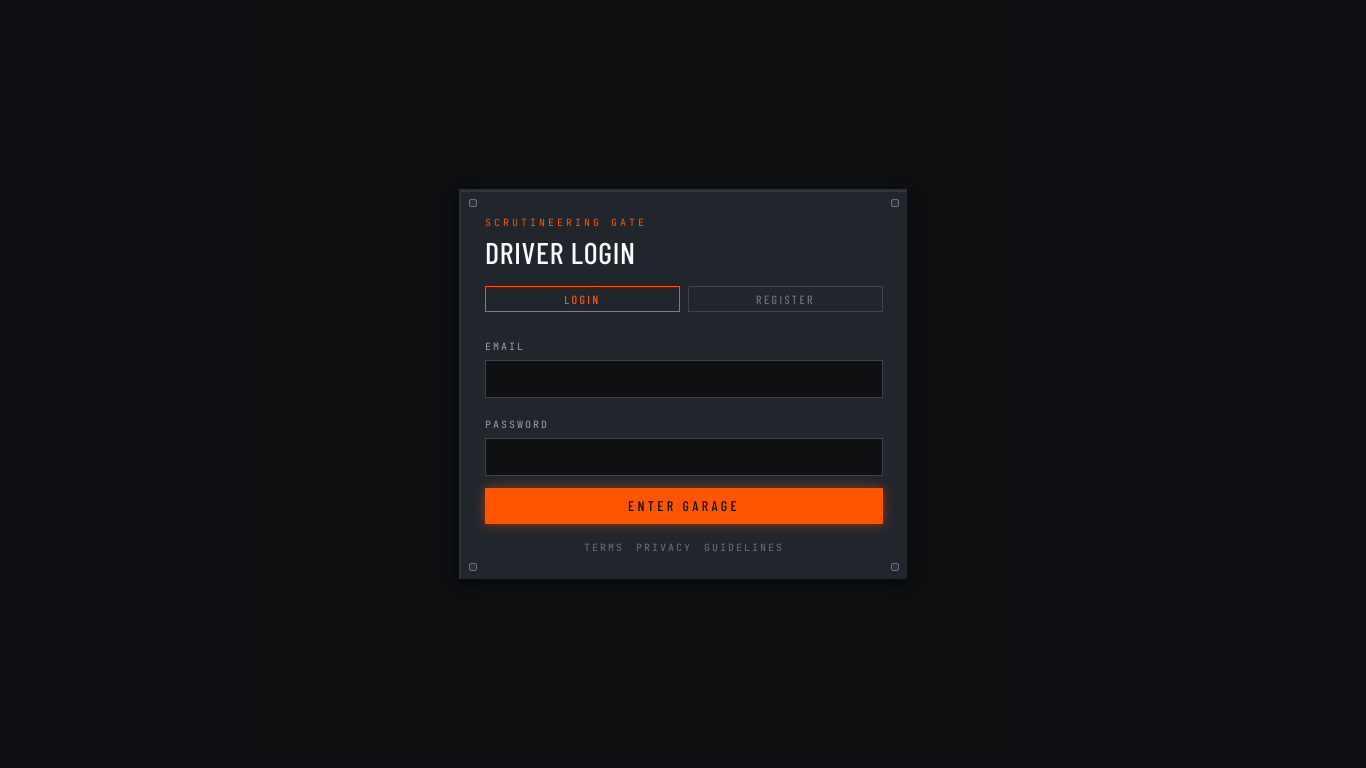
AuthModal › requires the legal checkbox after age attestation
The width and height of the screenshot is (1366, 768).
Click the button "Register": (786, 299) x1=688 y1=286 x2=883 y2=312
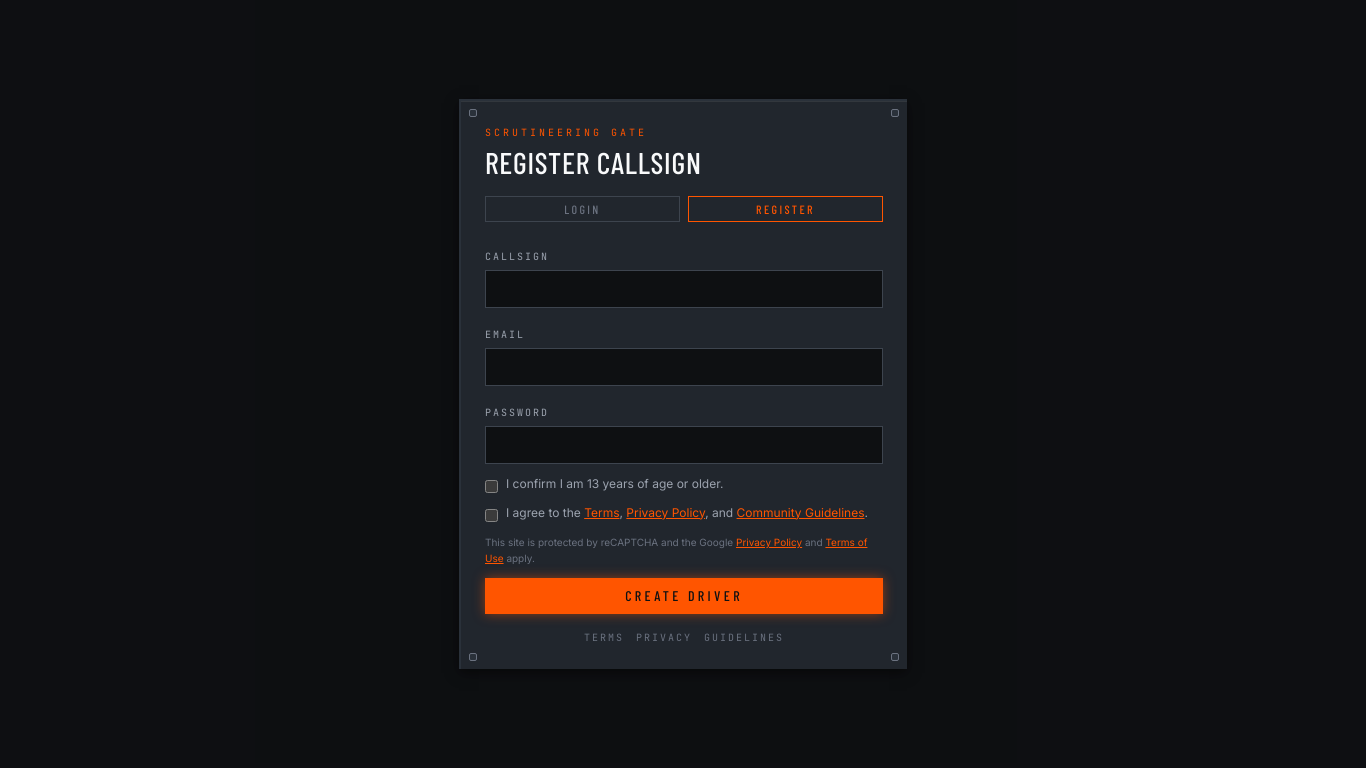
In the field labelled "Callsign": (684, 289) x1=485 y1=270 x2=883 y2=308, type "TrailBoss"
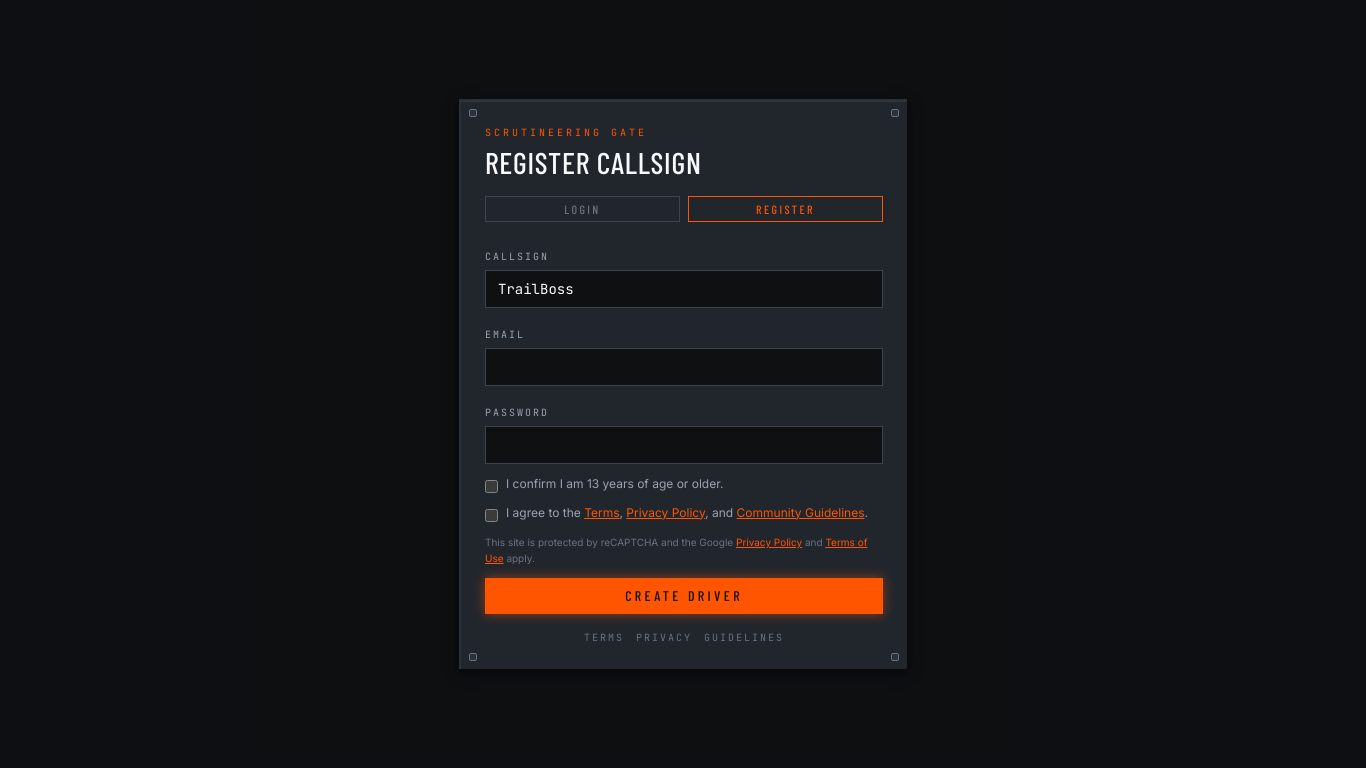
In the field labelled "Email": (684, 367) x1=485 y1=348 x2=883 y2=386, type "trailboss@example.com"
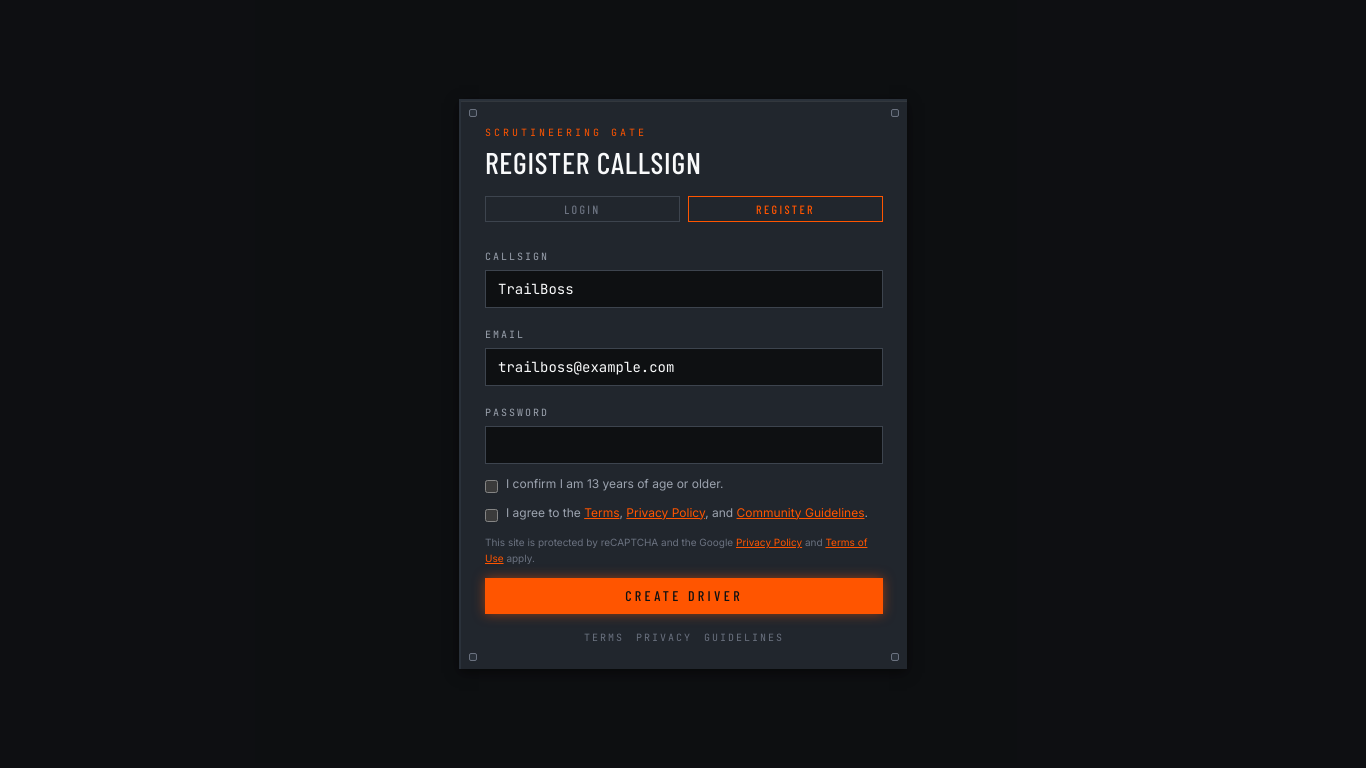
In the password field labelled "Password": (684, 445) x1=485 y1=426 x2=883 y2=464, type "password123"
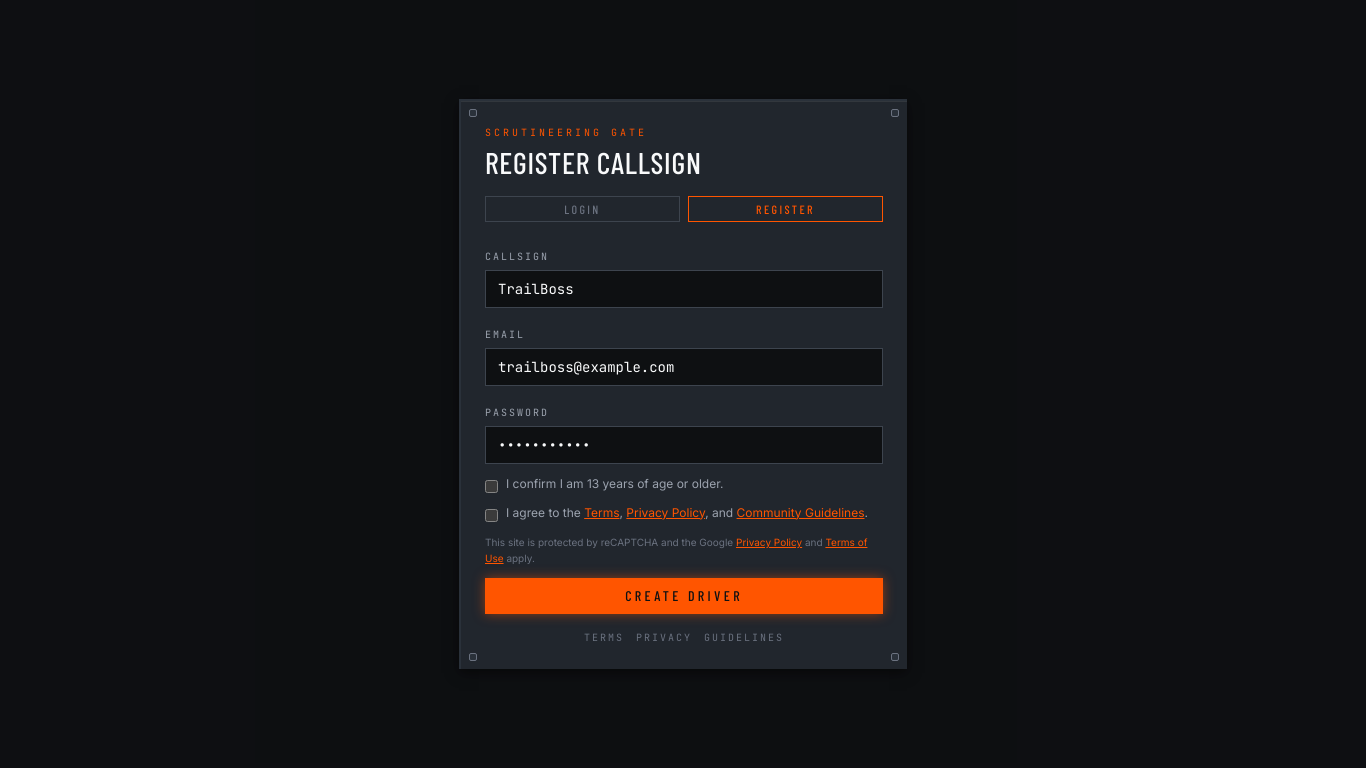
Click the checkbox labelled "I confirm I am 13 years of age or older.": (492, 486) x1=485 y1=480 x2=498 y2=493
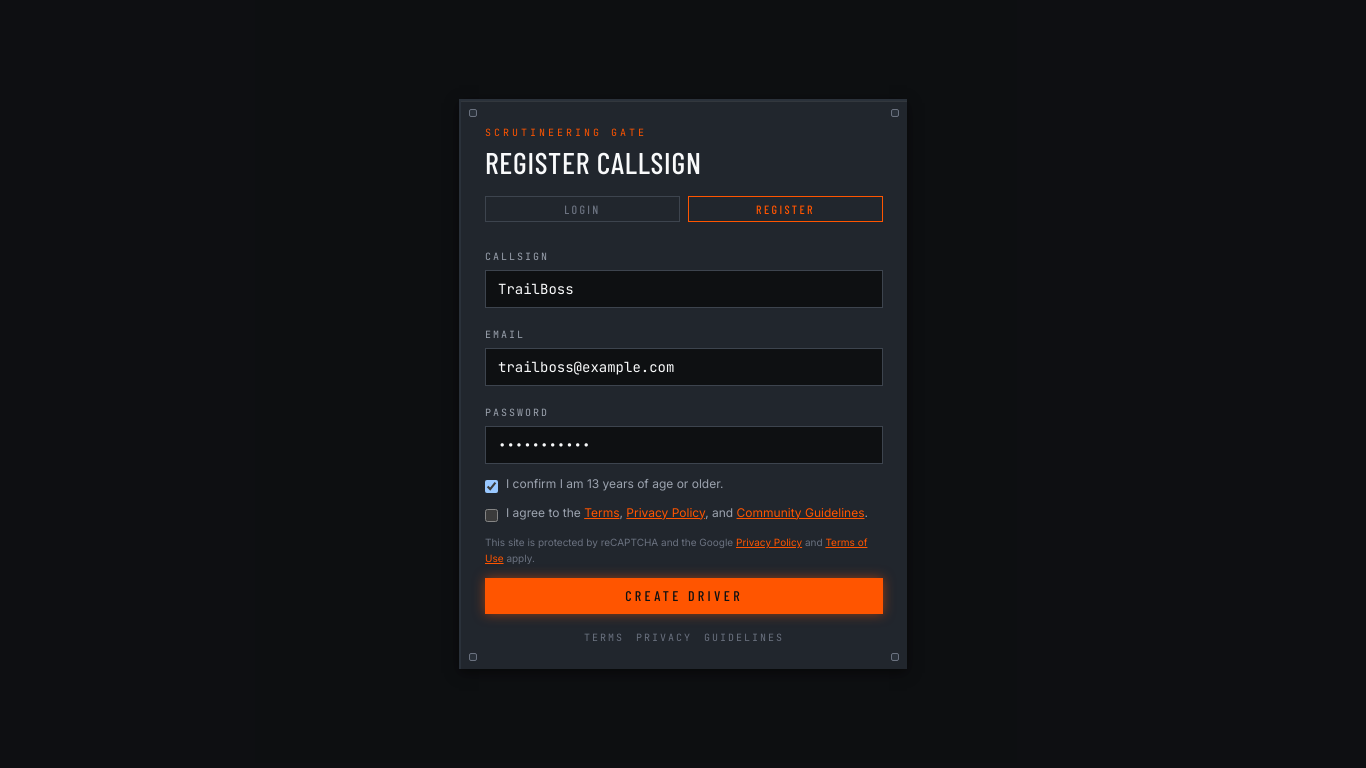
Click the button "Create Driver": (684, 596) x1=485 y1=578 x2=883 y2=614
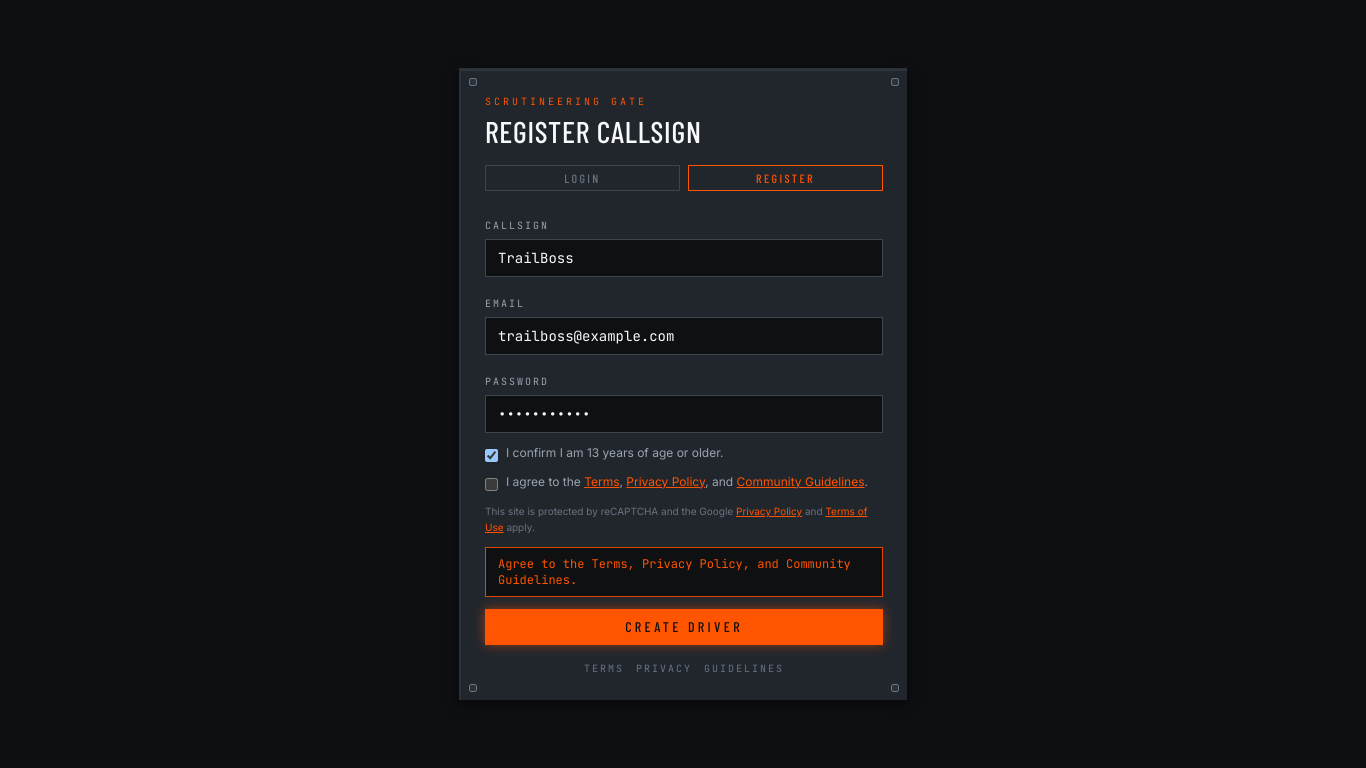
Result: the text "Agree to the Terms, Privacy Policy, and Community Guidelines" is shown at x1=498 y1=556 x2=851 y2=588
